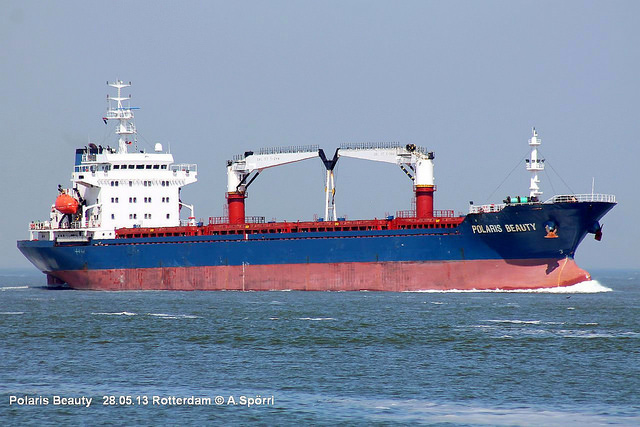bulk carrier: (18, 82, 616, 292)
